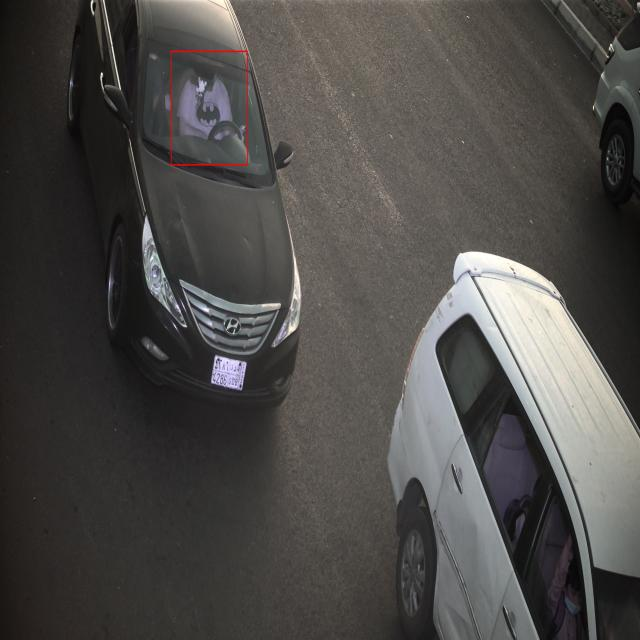windshield: (139, 22, 279, 190)
